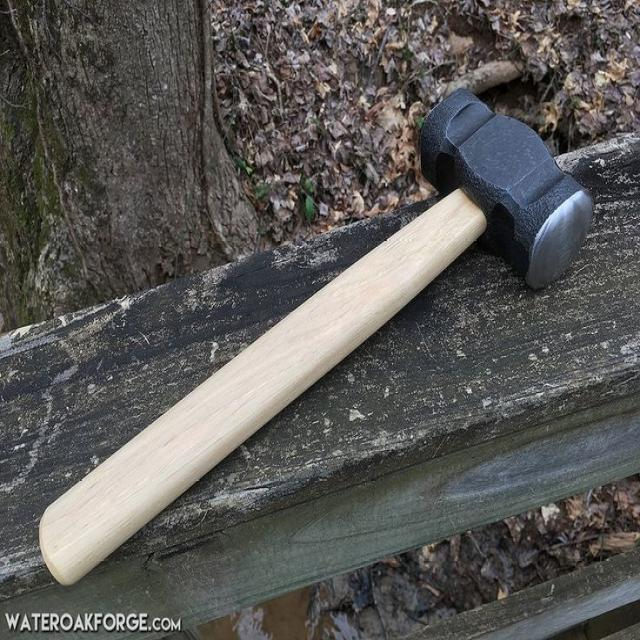hammer: (32, 82, 598, 592)
